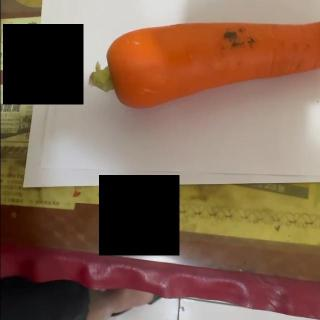carrot: (87, 18, 320, 110)
